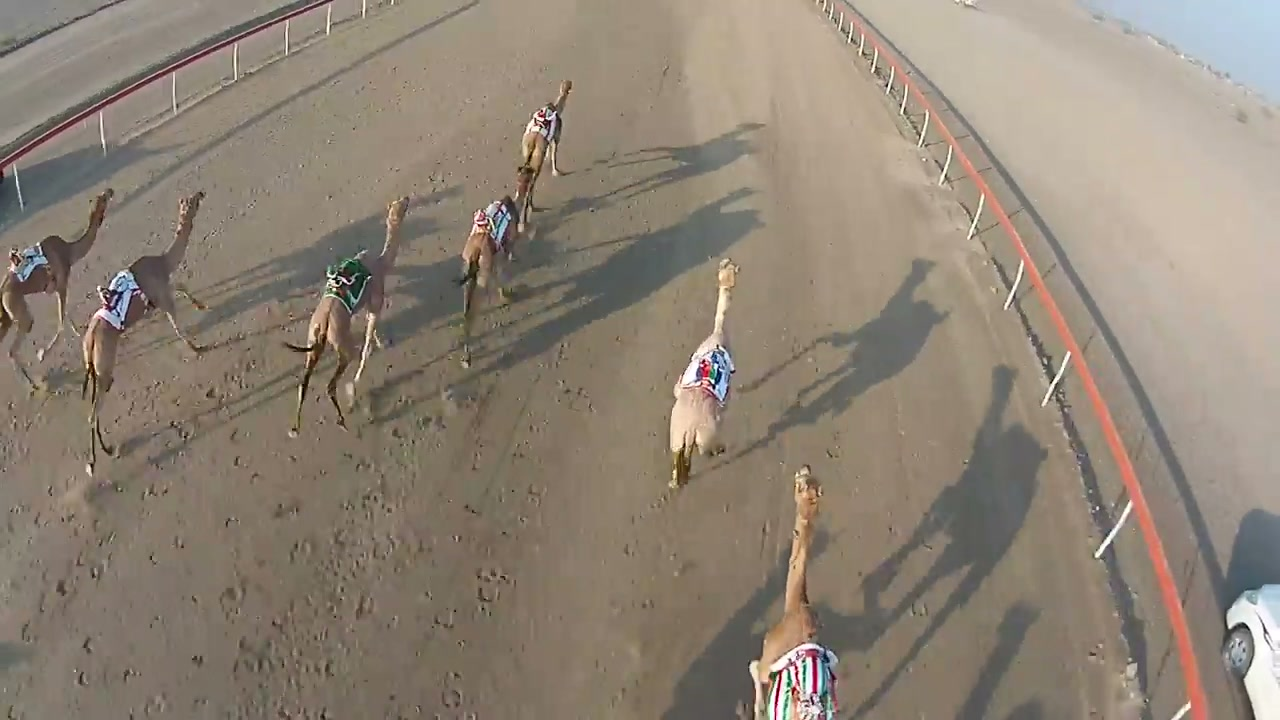animal_footprint: (2, 344, 491, 715), (408, 429, 557, 708), (580, 464, 708, 709)
